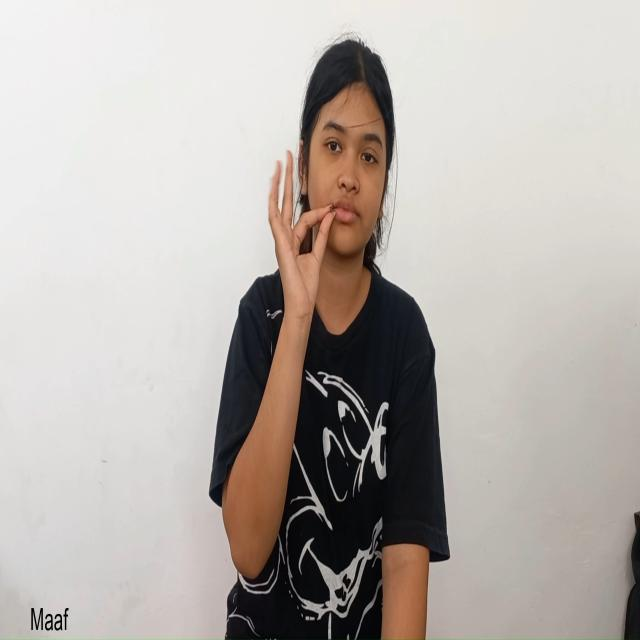Maaf -BISINDO-: (268, 40, 394, 319)
